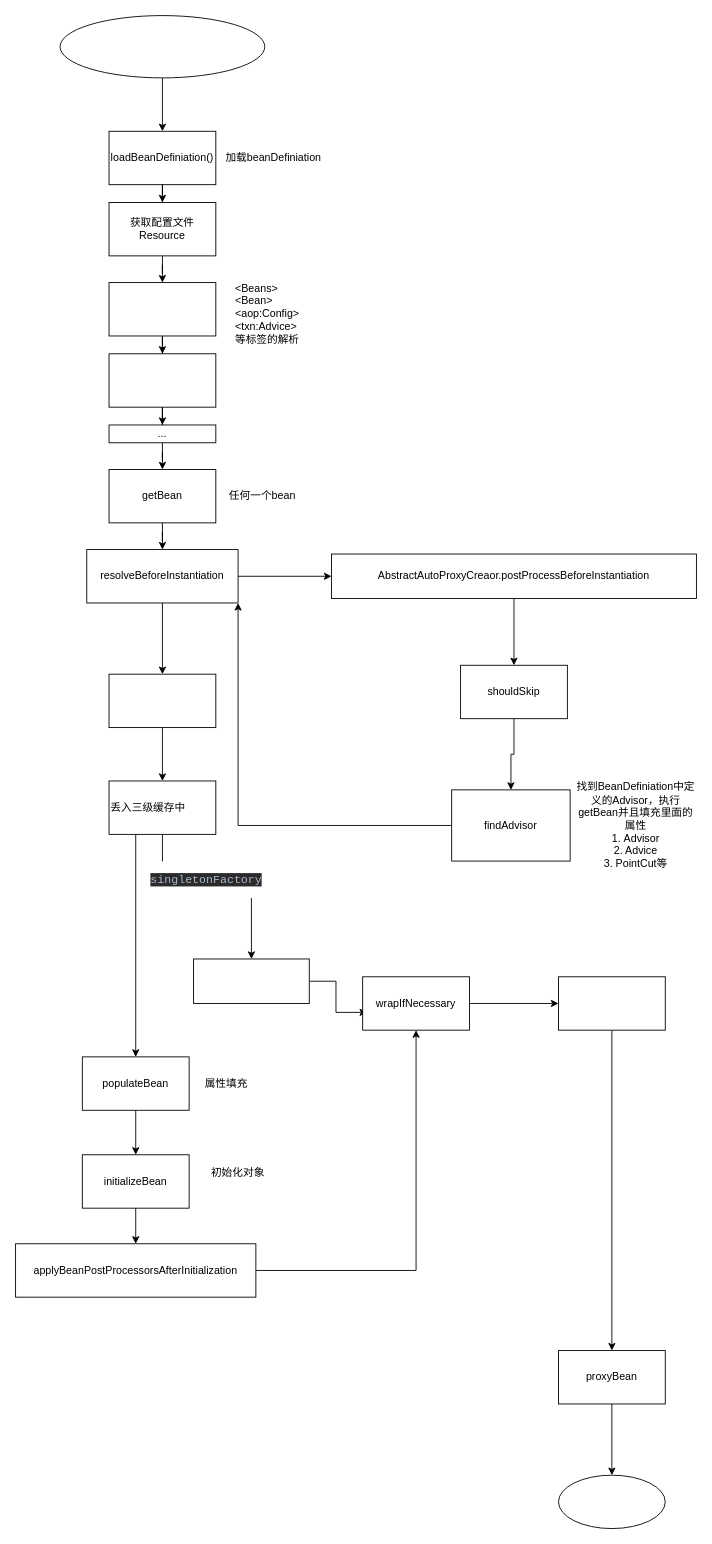
Image size: 712x1544. Some labels were removed from this diagram. The shapes that lost their labels are listed below. From the top down, each one's centre as x and y in pixels, then its label:
point (162, 46): AbstractApplicetionContext.refresh
point (162, 309): 解析配置文件
point (162, 380): 生成BeanDefinition,加入到BeanFactory中
point (162, 700): createBeanInstance
point (251, 980): getEarlyBeanRefrence
point (611, 1003): 使用当前class和Advisor列表生成proxy
point (611, 1501): end
